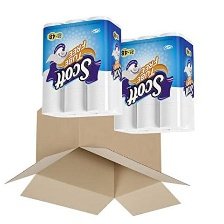book: (0, 104, 195, 224)
tissue: (36, 12, 129, 123), (107, 28, 199, 139)
